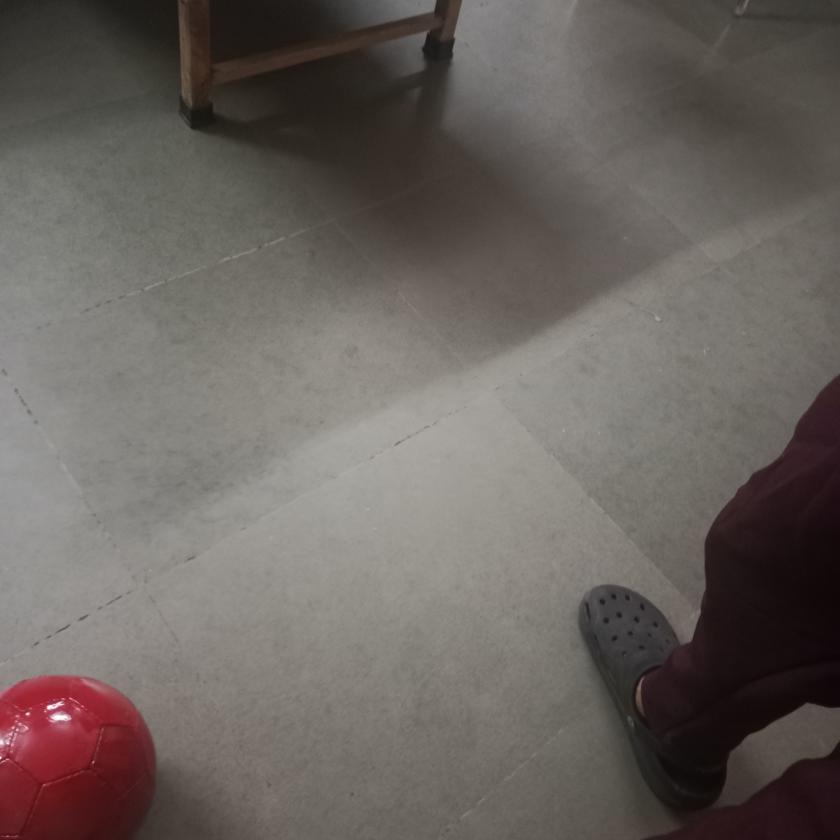Red_Ball: (5, 674, 166, 837)
